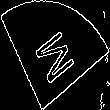M_SW: (31, 22, 79, 88)
